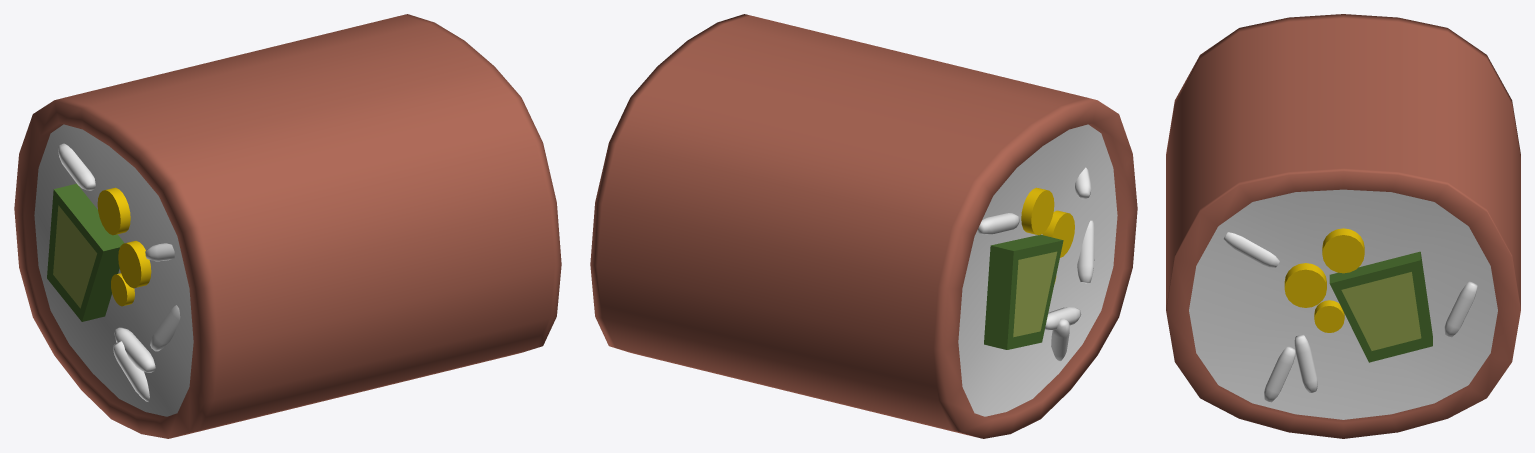
The model's file is Sushi2_SM.fbx.
3 views of the same model, side by side, from view 1: azimuth 30°, elevation 25°; view 2: azimuth 150°, elevation 25°; view 3: azimuth 270°, elevation 25° (orthographic). The views are drawn at different scales.
Parts seen in each view (by area): view 1: pCylinder5; view 2: pCylinder5; view 3: pCylinder5.
Part boxes in pixels (bbox=[...]): pCylinder5: bbox=[14, 14, 561, 438]; pCylinder5: bbox=[590, 14, 1137, 438]; pCylinder5: bbox=[1166, 14, 1520, 438].
Bounding box in the file's own units: 2.28 × 1.66 × 2.
